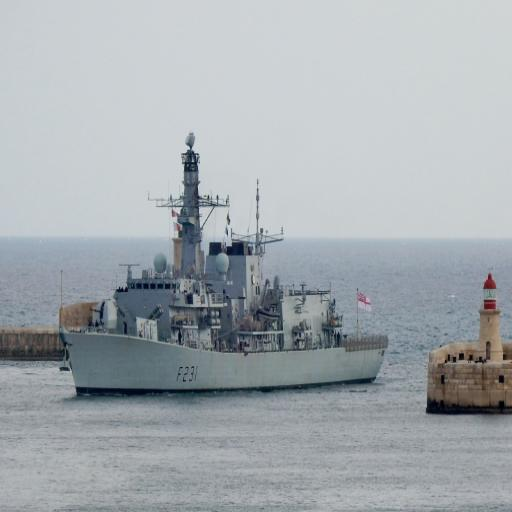Fragata: (56, 119, 395, 409)
